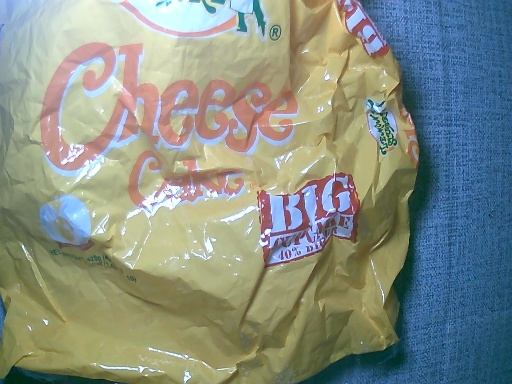plastic: (1, 1, 433, 384)
